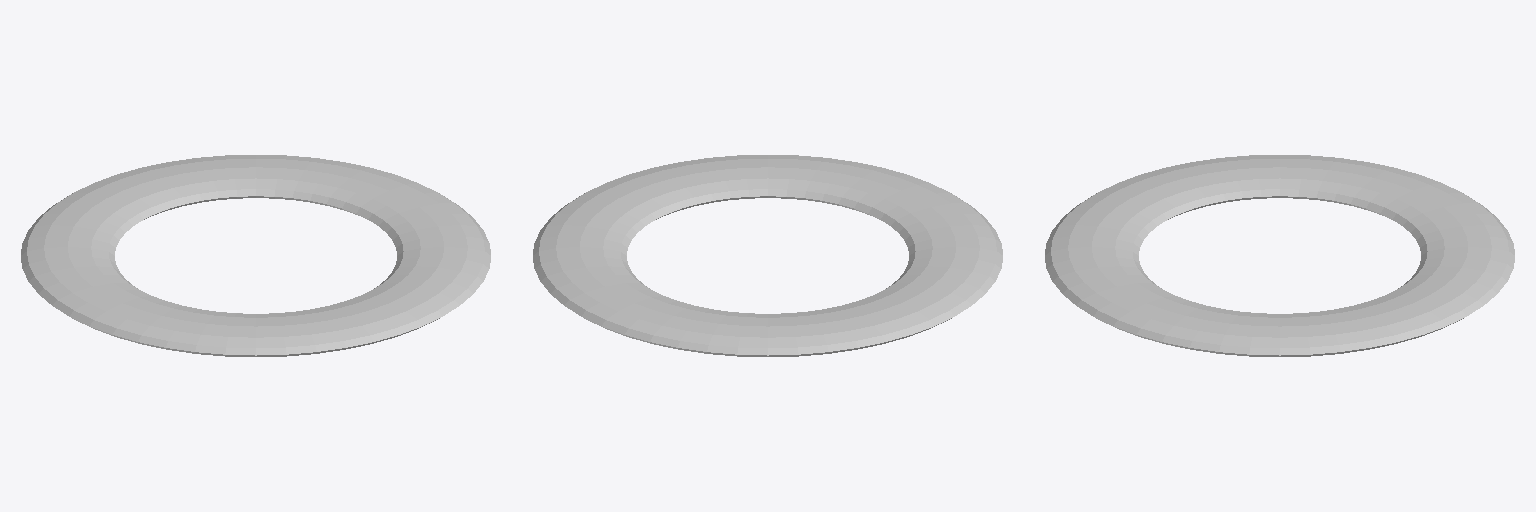
The model's file is saturn_ring.obj.
The picture shows the model from 3 angles: view 1: azimuth 30°, elevation 25°; view 2: azimuth 150°, elevation 25°; view 3: azimuth 270°, elevation 25°; orthographic projection.
Visible parts, largest first — view 1: Torus; view 2: Torus; view 3: Torus.
Boxes of the visible parts, <box> form: Torus: <box>21,155,490,356</box>; Torus: <box>533,155,1002,356</box>; Torus: <box>1045,155,1514,356</box>.
Size of the model in its own units: 4.06 by 0.1726 by 4.06.